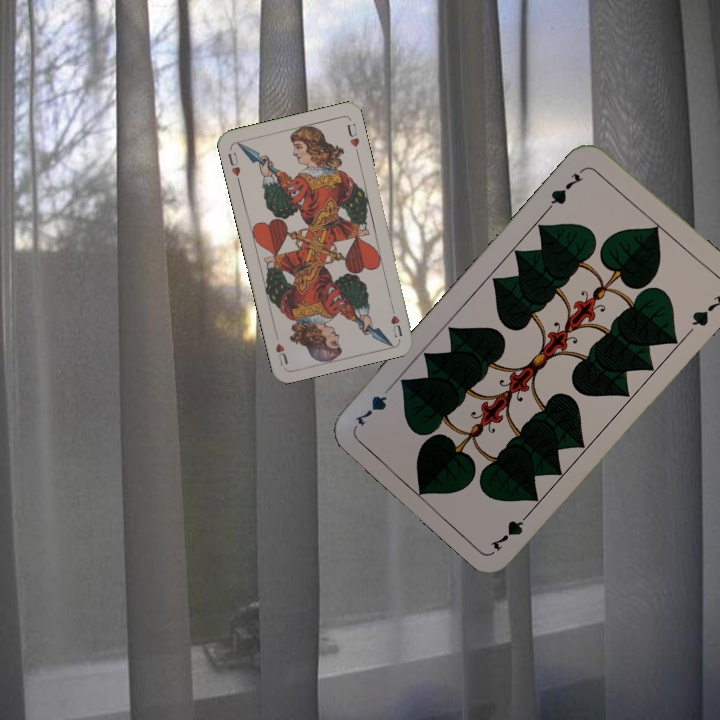G7: (486, 505, 536, 554), (544, 164, 588, 212)
HU: (386, 300, 405, 340), (224, 149, 243, 185)
